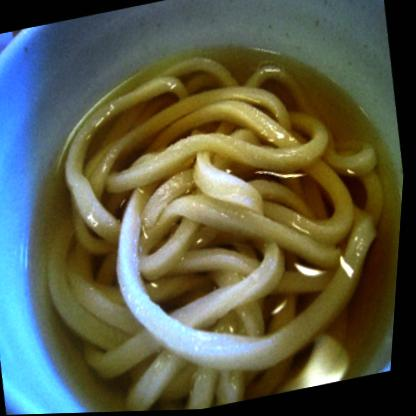Udon: (10, 15, 414, 414)
